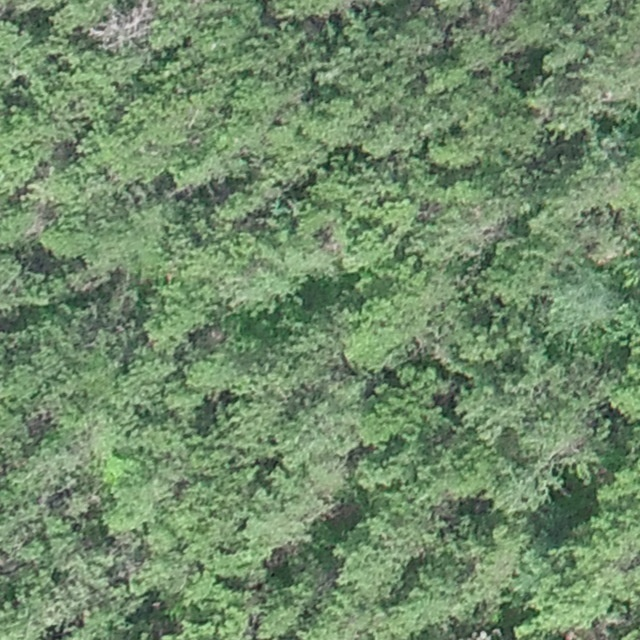unhealthy: (86, 1, 157, 48), (481, 0, 522, 30)
